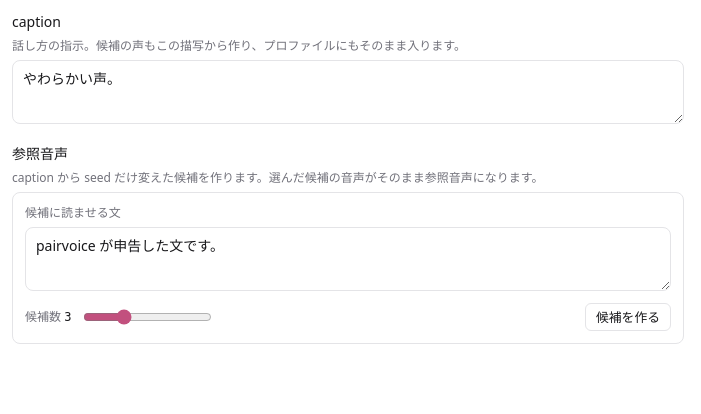
Test: 候補は参照音声を使わない design で作り、選んだ候補の音声からプロファイルを作る
Set the slider to "1". click: [91, 317]
box: x1=83 y1=309 x2=212 y2=325
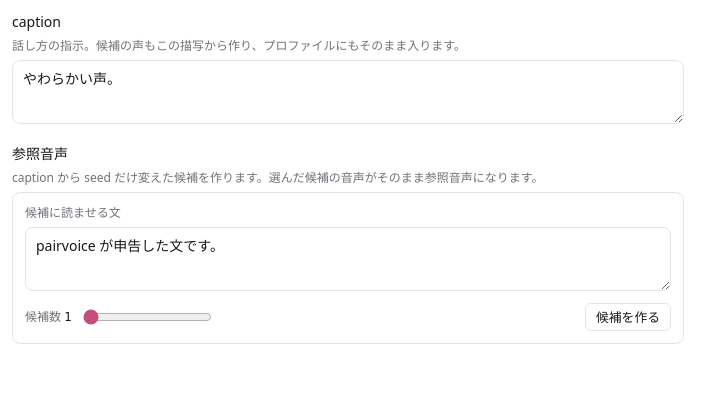
Click the button "候補を作る". click: [628, 317]
box: x1=585 y1=303 x2=671 y2=331
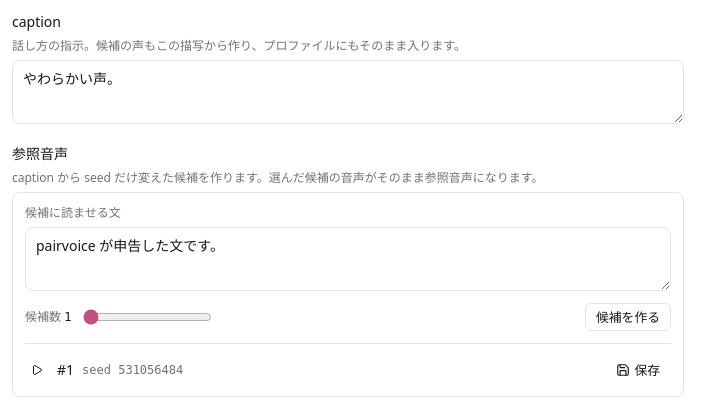
Click the button with aria-label "候補 #1 を保存". click: [638, 370]
box: x1=605 y1=356 x2=671 y2=384
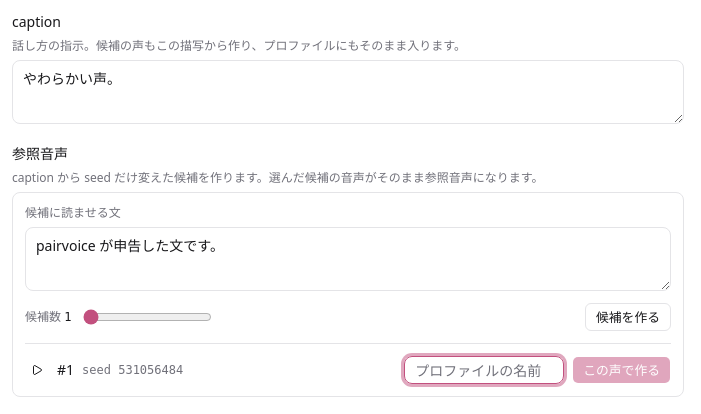
Type "作った声" into the field named "候補 #1 の名前". click: [484, 370]
box: x1=404 y1=356 x2=564 y2=384
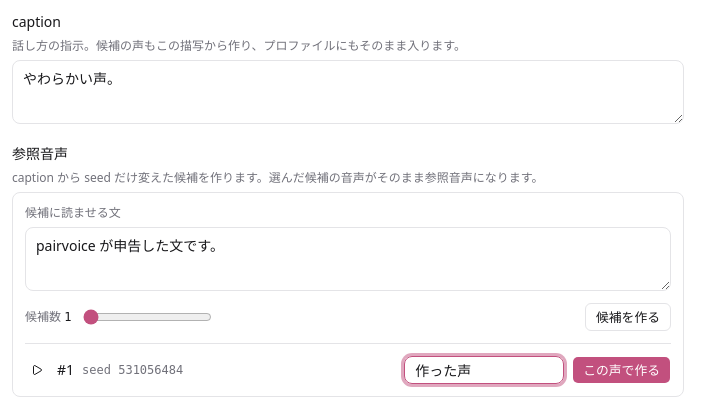
Note: 変換を確定する Enter では作らない
Press Enter in the field named "候補 #1 の名前", box x1=404 y1=356 x2=564 y2=384
Click the button "この声で作る". click: [622, 370]
box: x1=572 y1=356 x2=671 y2=384
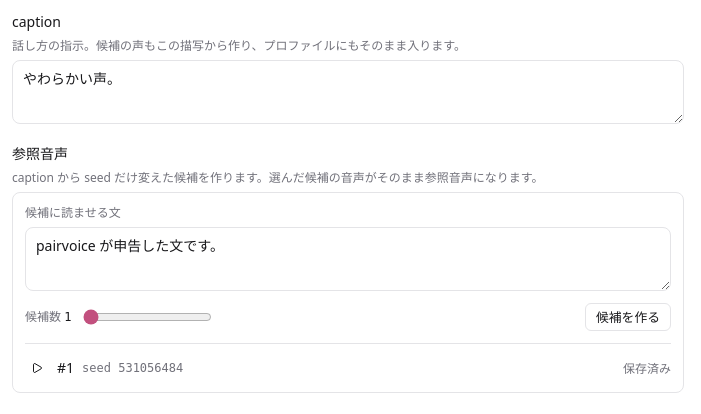
Now the text "保存済み" is shown, box x1=623 y1=360 x2=671 y2=377
